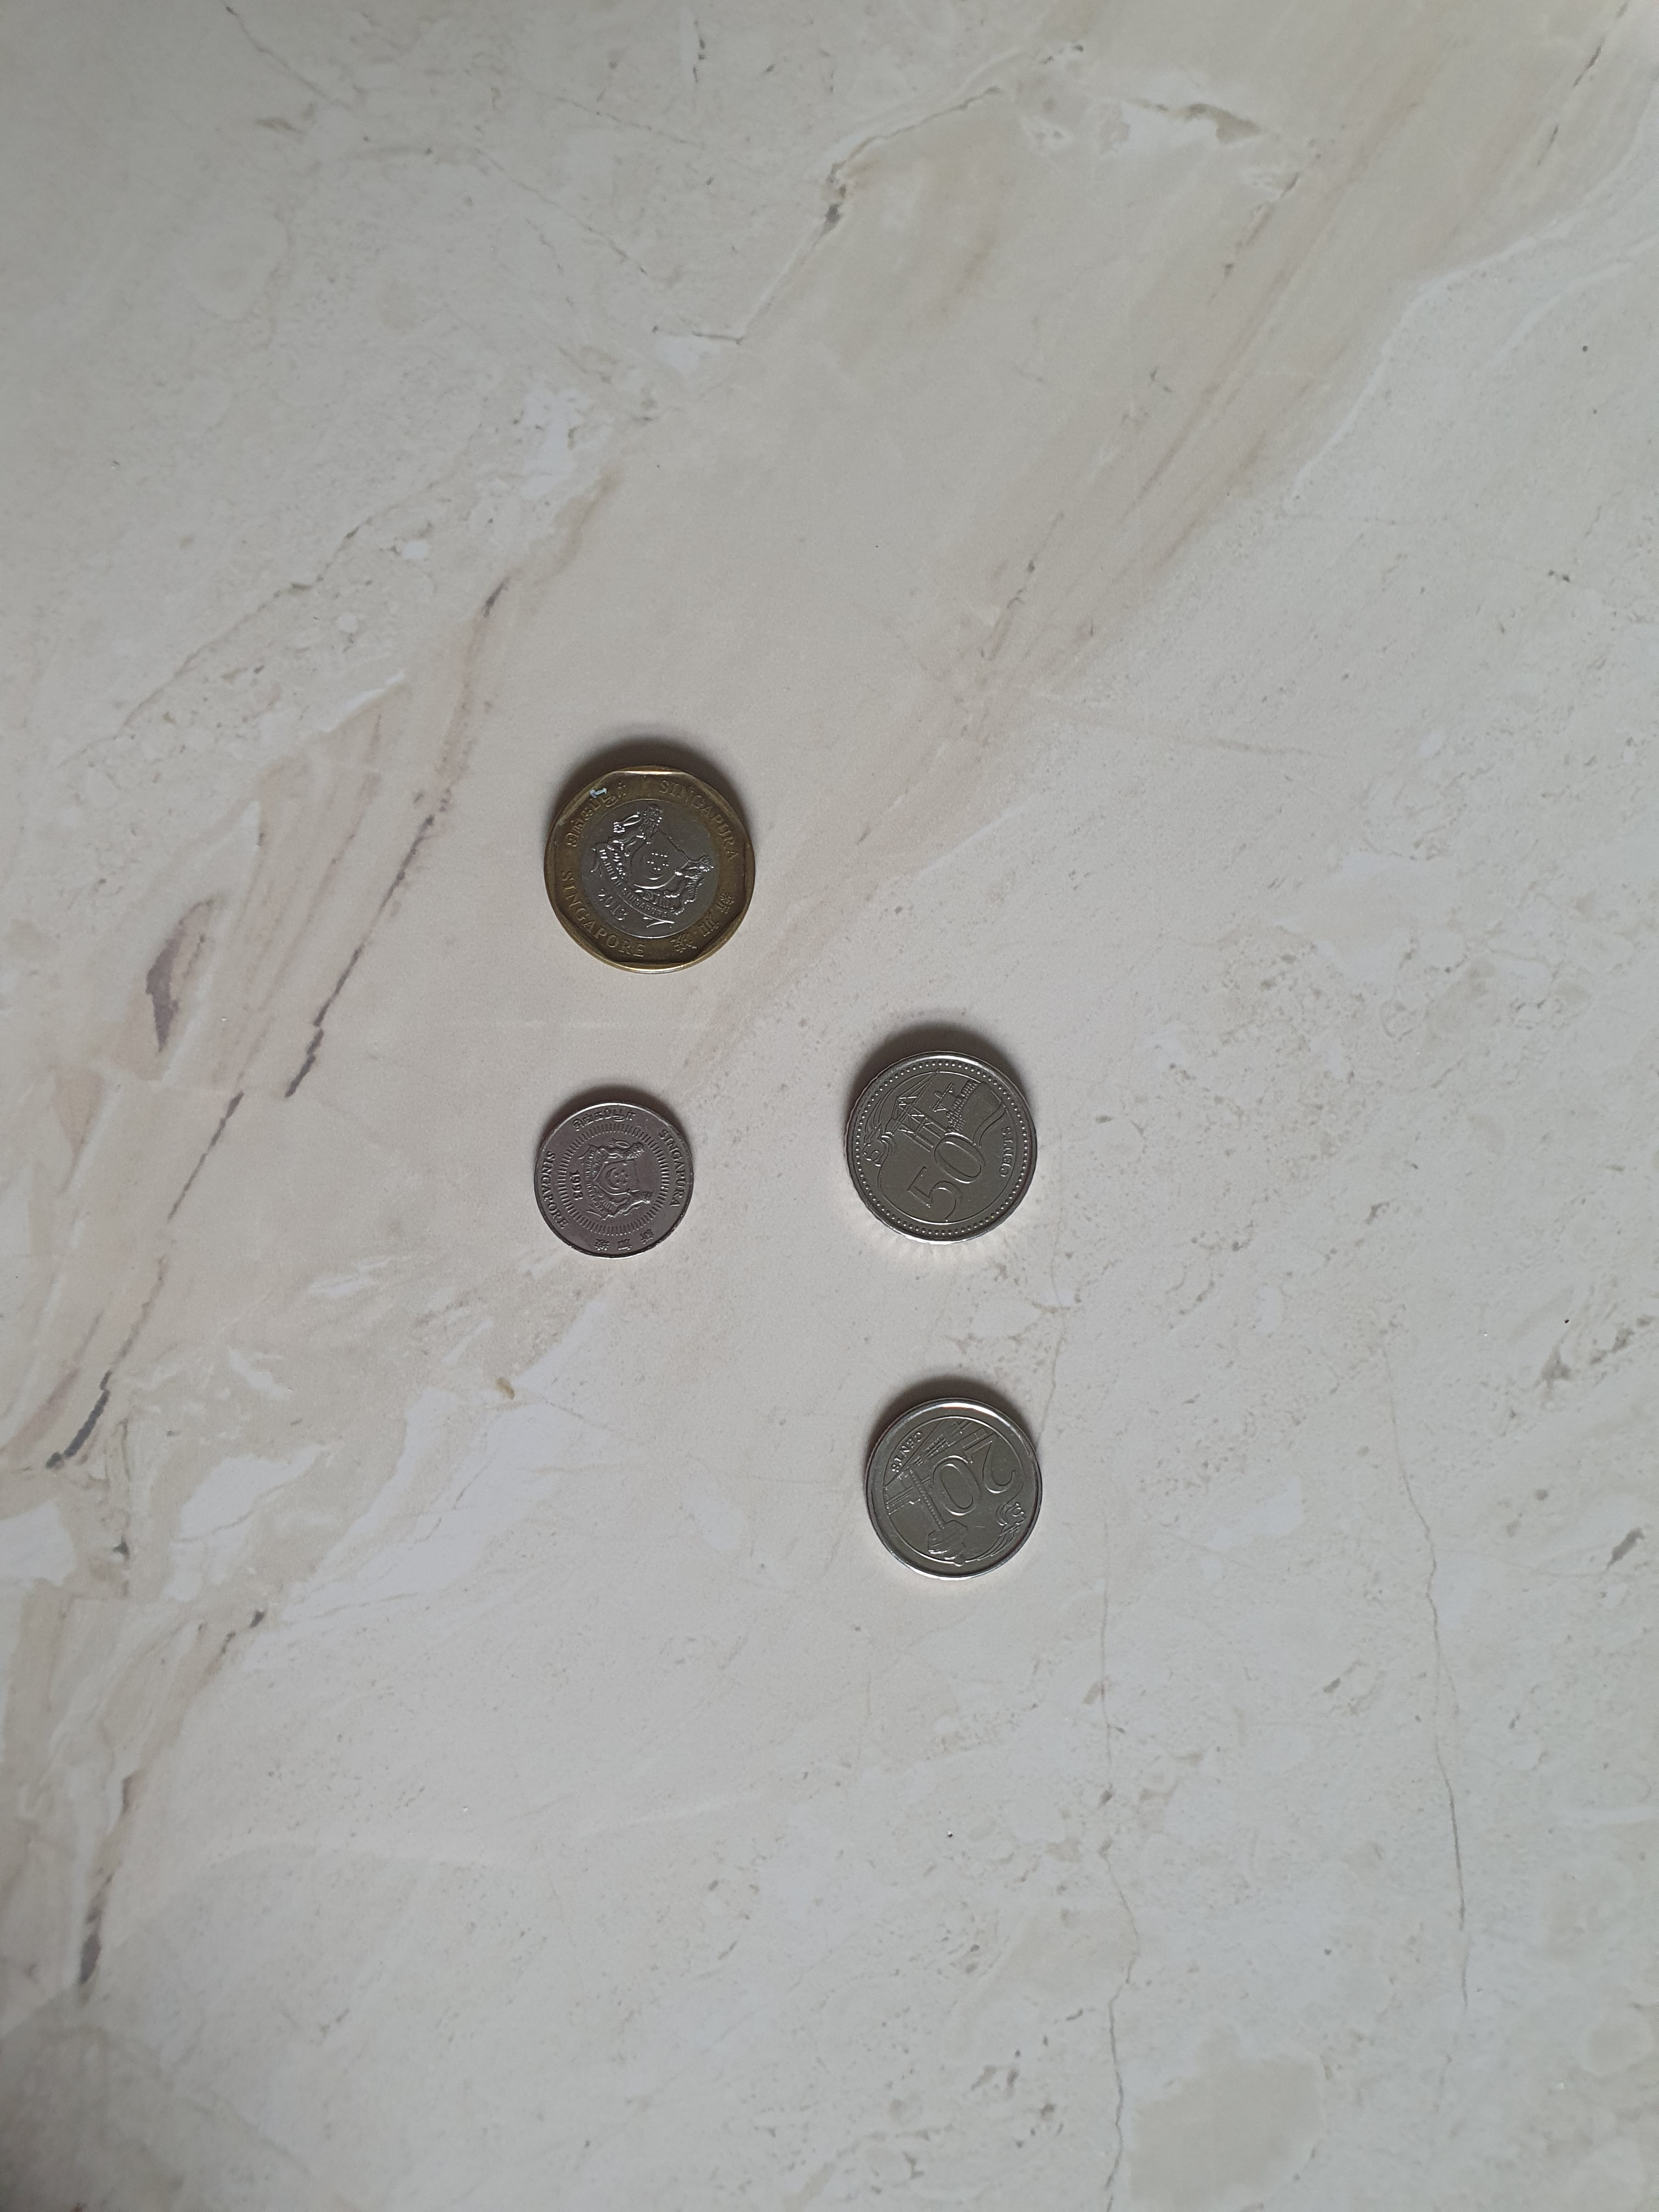$1: (544, 765, 756, 975)
10c: (533, 1101, 695, 1259)
20c: (863, 1395, 1047, 1581)
50c: (845, 1052, 1039, 1247)
